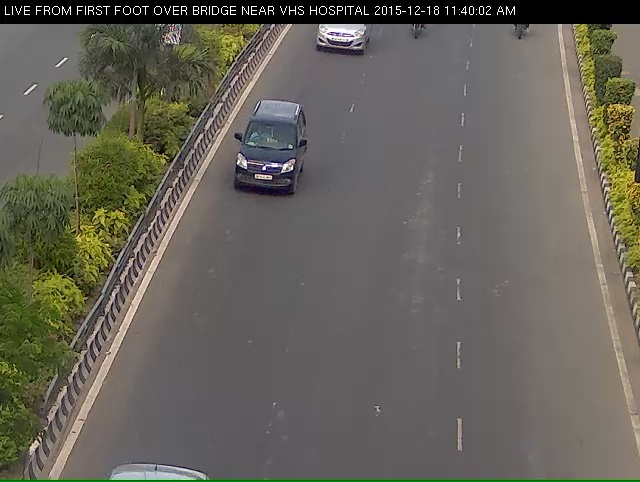Car: (233, 109, 304, 217)
